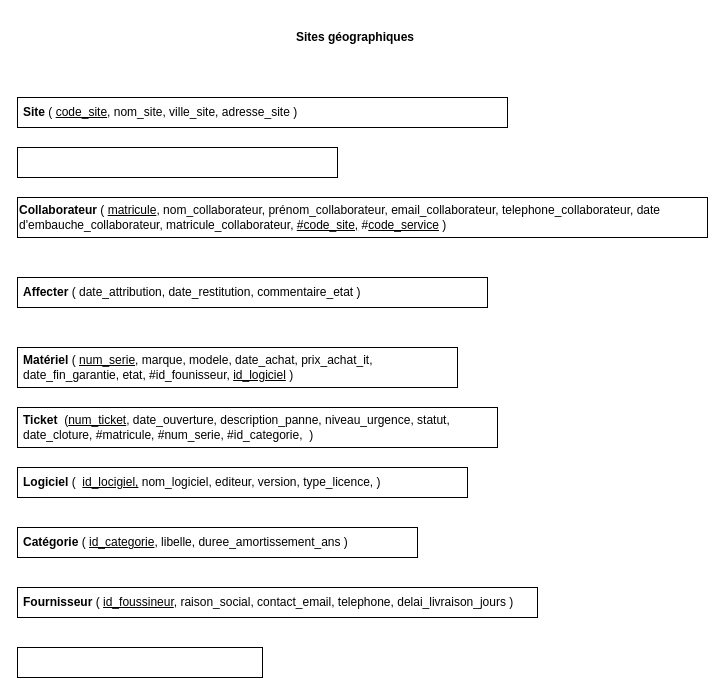
Some shapes in this 725 by 695 pixel diagram are drawn without their labels. Each missing label, with the centre of its shape:
"Installer ( date_installation, cle_licence )" belongs at (x=139, y=662).
"Service ( code_service , nom_service, budget_annuel )" belongs at (x=177, y=162).
